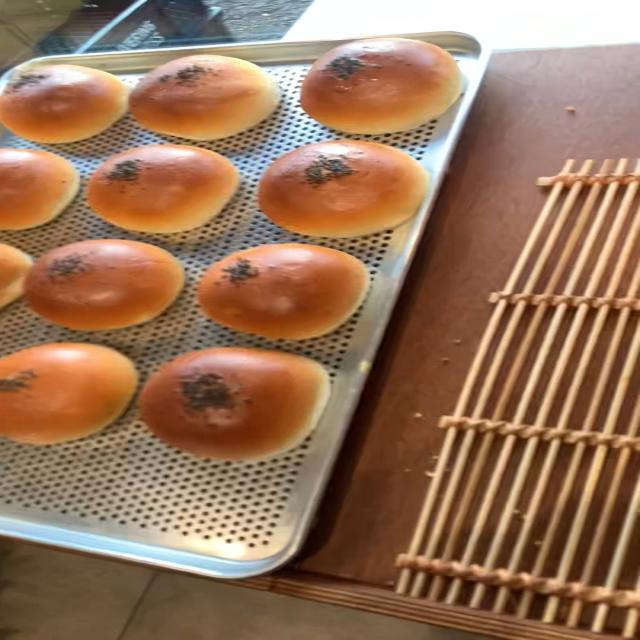bread: (292, 36, 474, 139), (253, 142, 429, 240)
